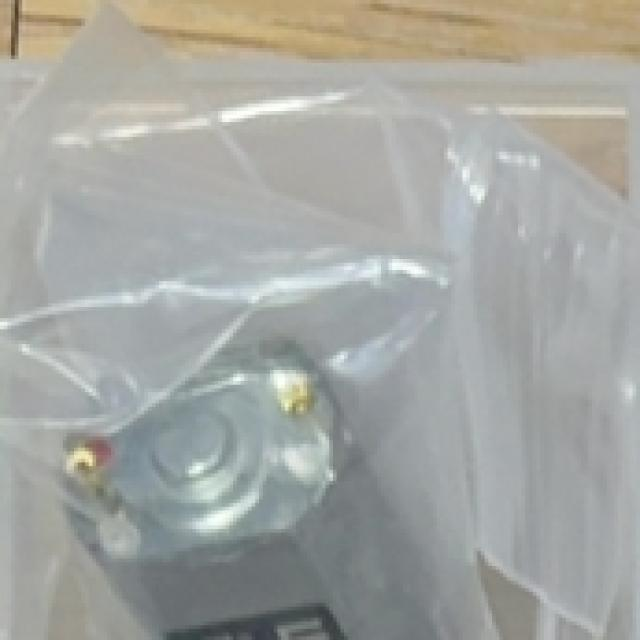Motor: (57, 324, 443, 640)
